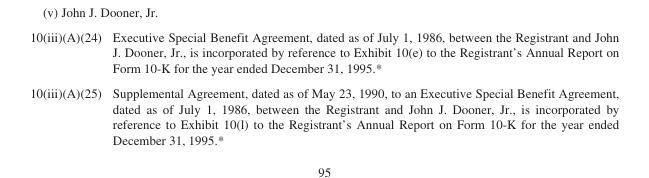table: (29, 29, 618, 146)
table column: (106, 29, 618, 146), (29, 29, 106, 146)
table row: (29, 80, 618, 146), (29, 29, 618, 80)
